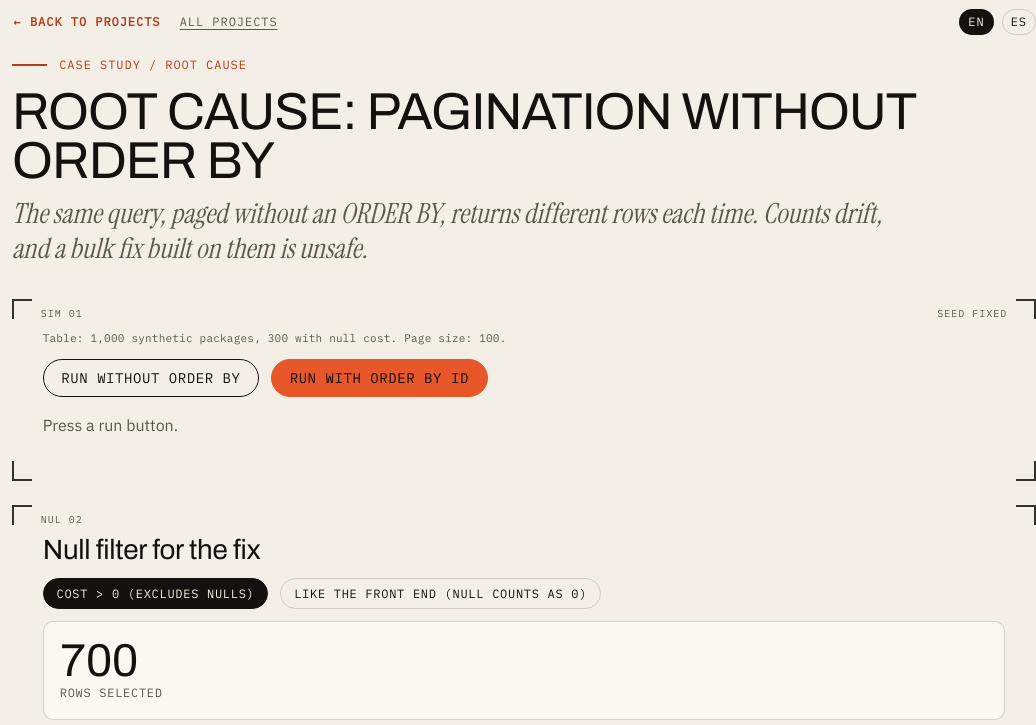
Test: la interfaz muestra los contadores
Click the button "Run with ORDER BY id": [379, 378] box [271, 359, 488, 397]
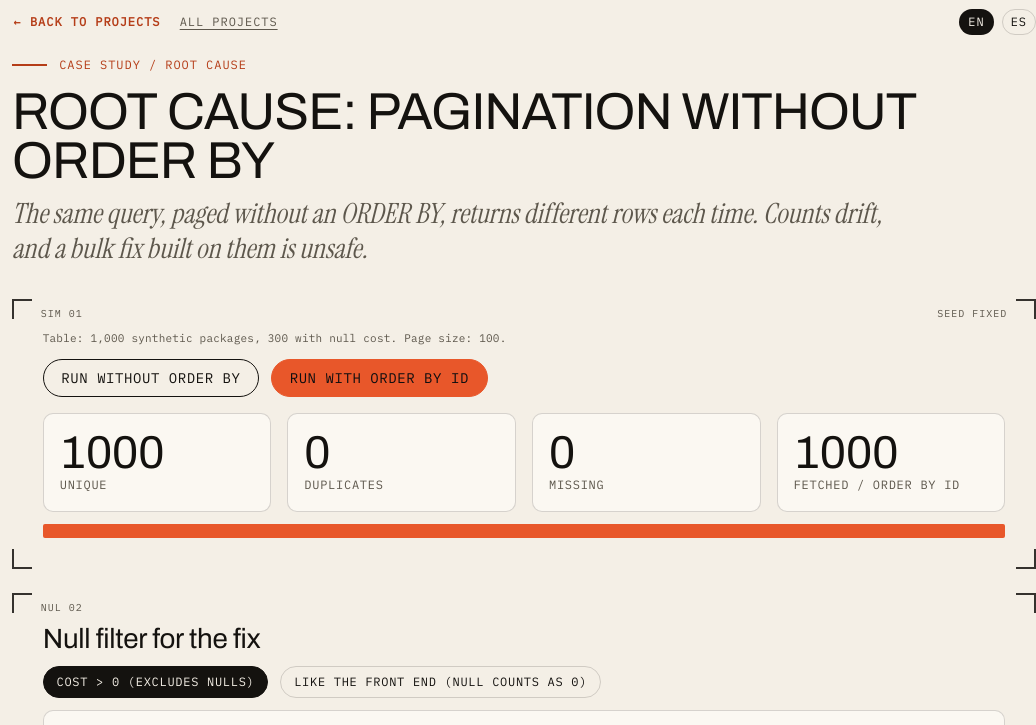
Check: the text with test id "unique" reads "1000", box [60, 428, 164, 478]
Check: the text with test id "missing" reads "0", box [549, 428, 575, 478]
Click the button "like the front end (null counts as 0)": [441, 682] box [280, 666, 601, 698]
(page scrolled)
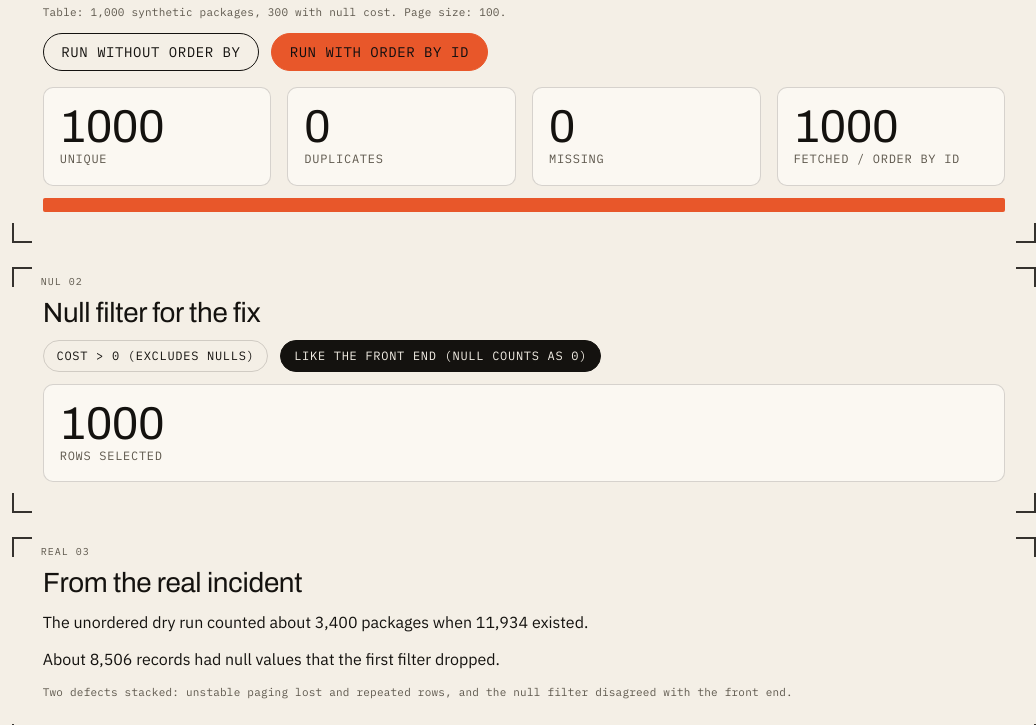
Check: the text with test id "selected" reads "1000", box [60, 398, 164, 448]
